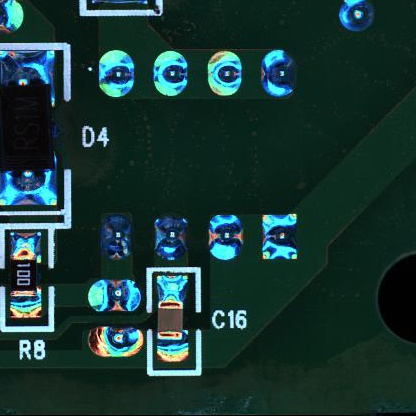spot: (259, 210, 300, 264), (85, 323, 143, 359), (151, 48, 191, 98), (85, 277, 139, 313), (153, 211, 189, 263), (207, 211, 243, 263), (205, 49, 242, 98), (98, 49, 134, 99), (261, 48, 295, 99), (99, 213, 133, 260)
